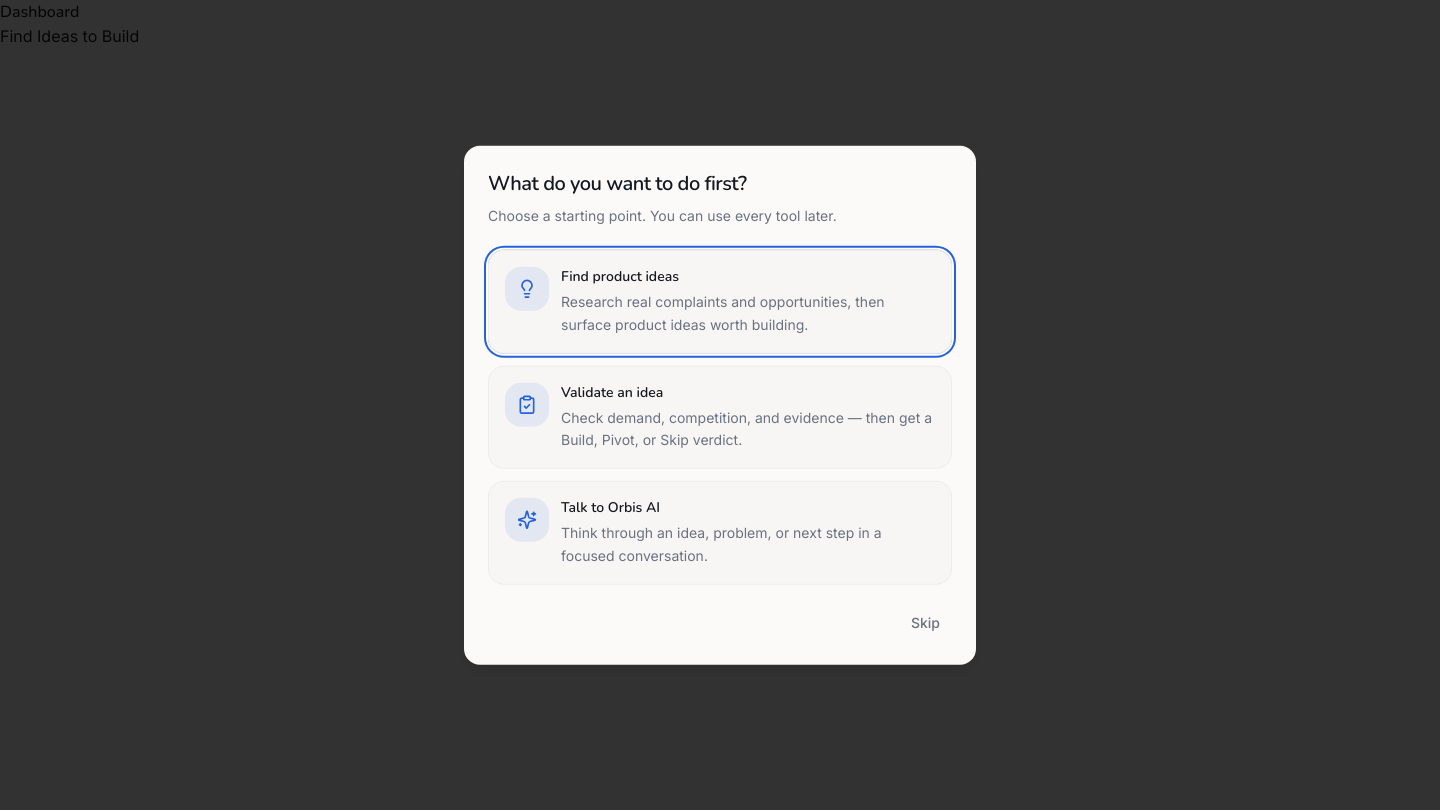
Test: OnboardingTour goal routing › persists completion and stays on dashboard when skipping
The image size is (1440, 810).
Step 1. Click the button "Skip" → (925,622), box 899,604 -> 952,640
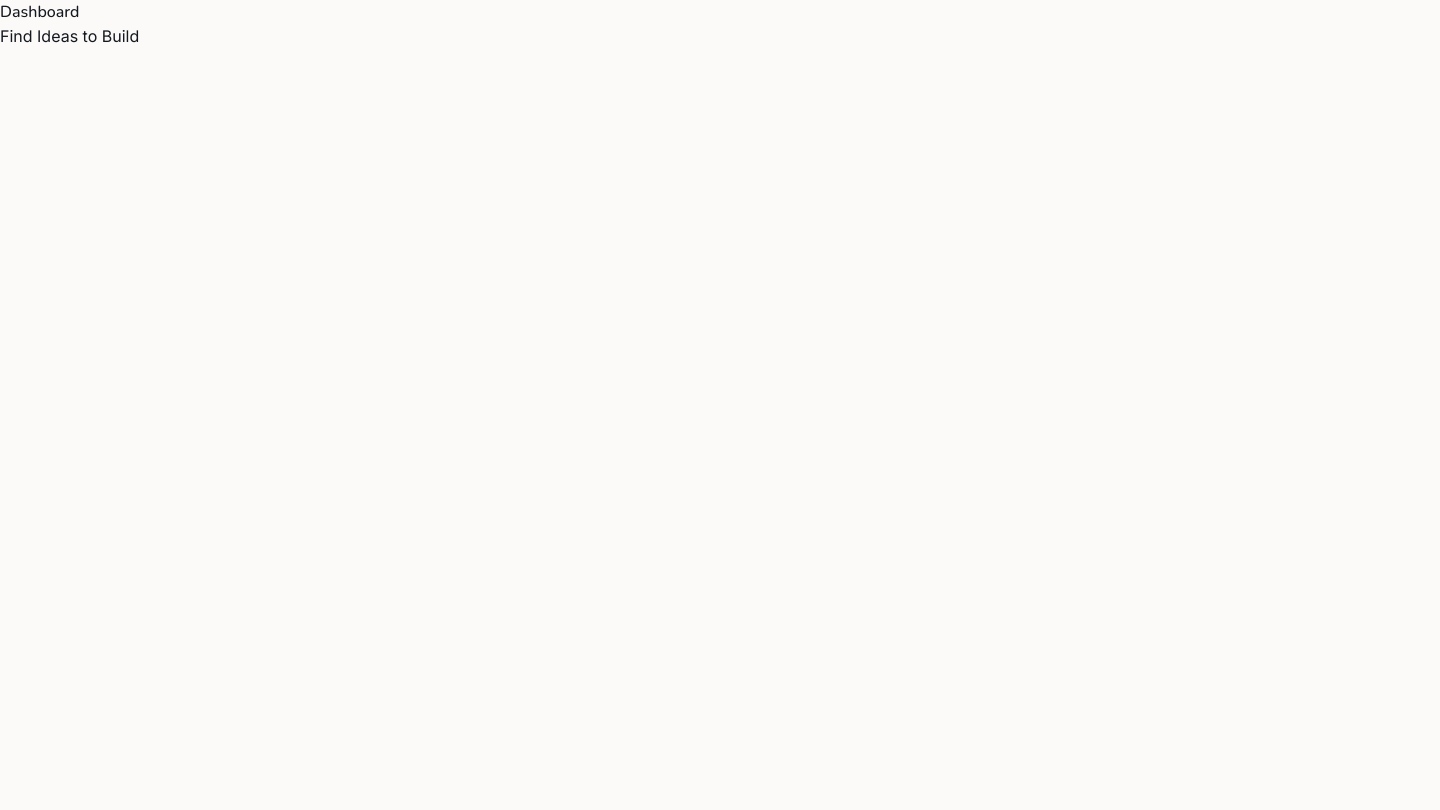
expect the heading "Dashboard" is shown: met, box 0,1 -> 79,23
expect the dialog is gone: met
